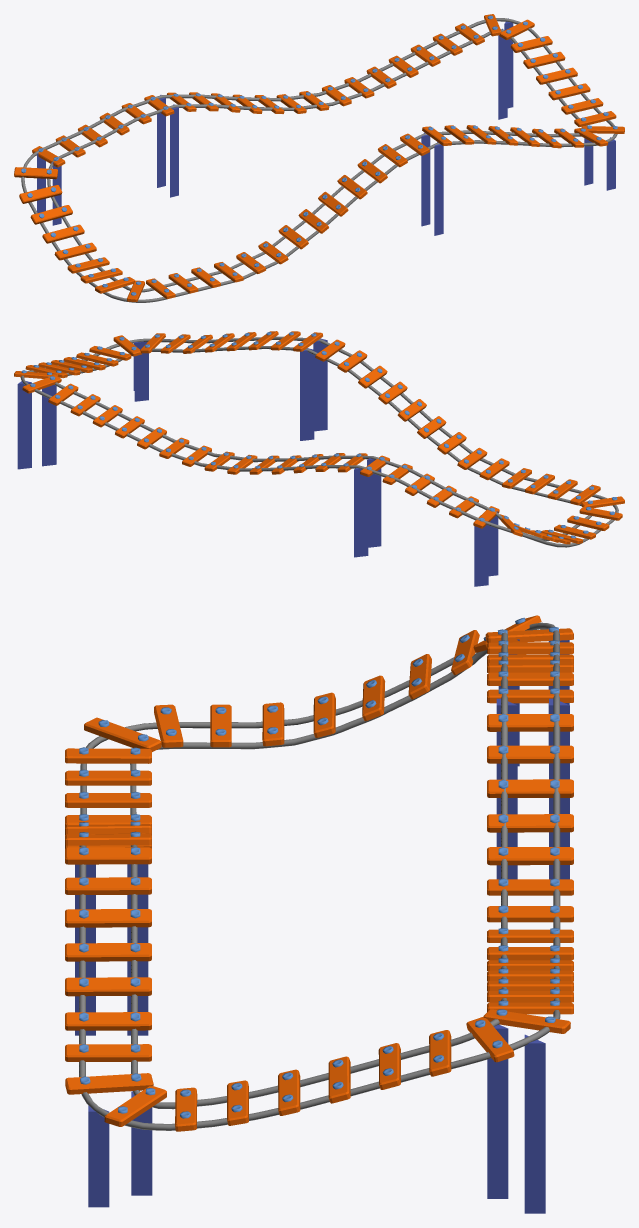
File: Rails.fbx
3 renders of one model, top to bottom at view 1: azimuth 30°, elevation 25°; view 2: azimuth 150°, elevation 25°; view 3: azimuth 270°, elevation 25°, orthographic. The views are drawn at different scales.
Visible parts, largest first — view 1: Rails; view 2: Rails; view 3: Rails.
Boxes of the visible parts, <box> form: Rails: <box>14,14,624,302</box>; Rails: <box>14,331,624,586</box>; Rails: <box>65,615,573,1213</box>.
Bounding box in the file's own units: 88.99 × 15.47 × 37.53.
